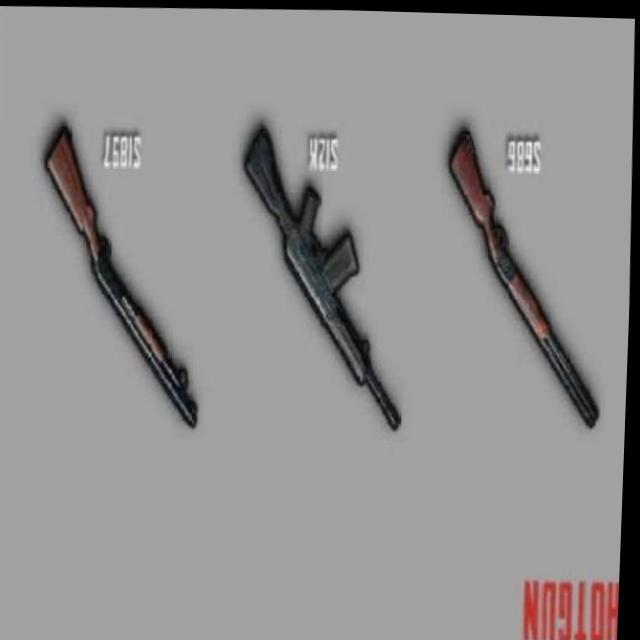weapon: (234, 116, 412, 430), (35, 118, 209, 429), (440, 119, 610, 426)
